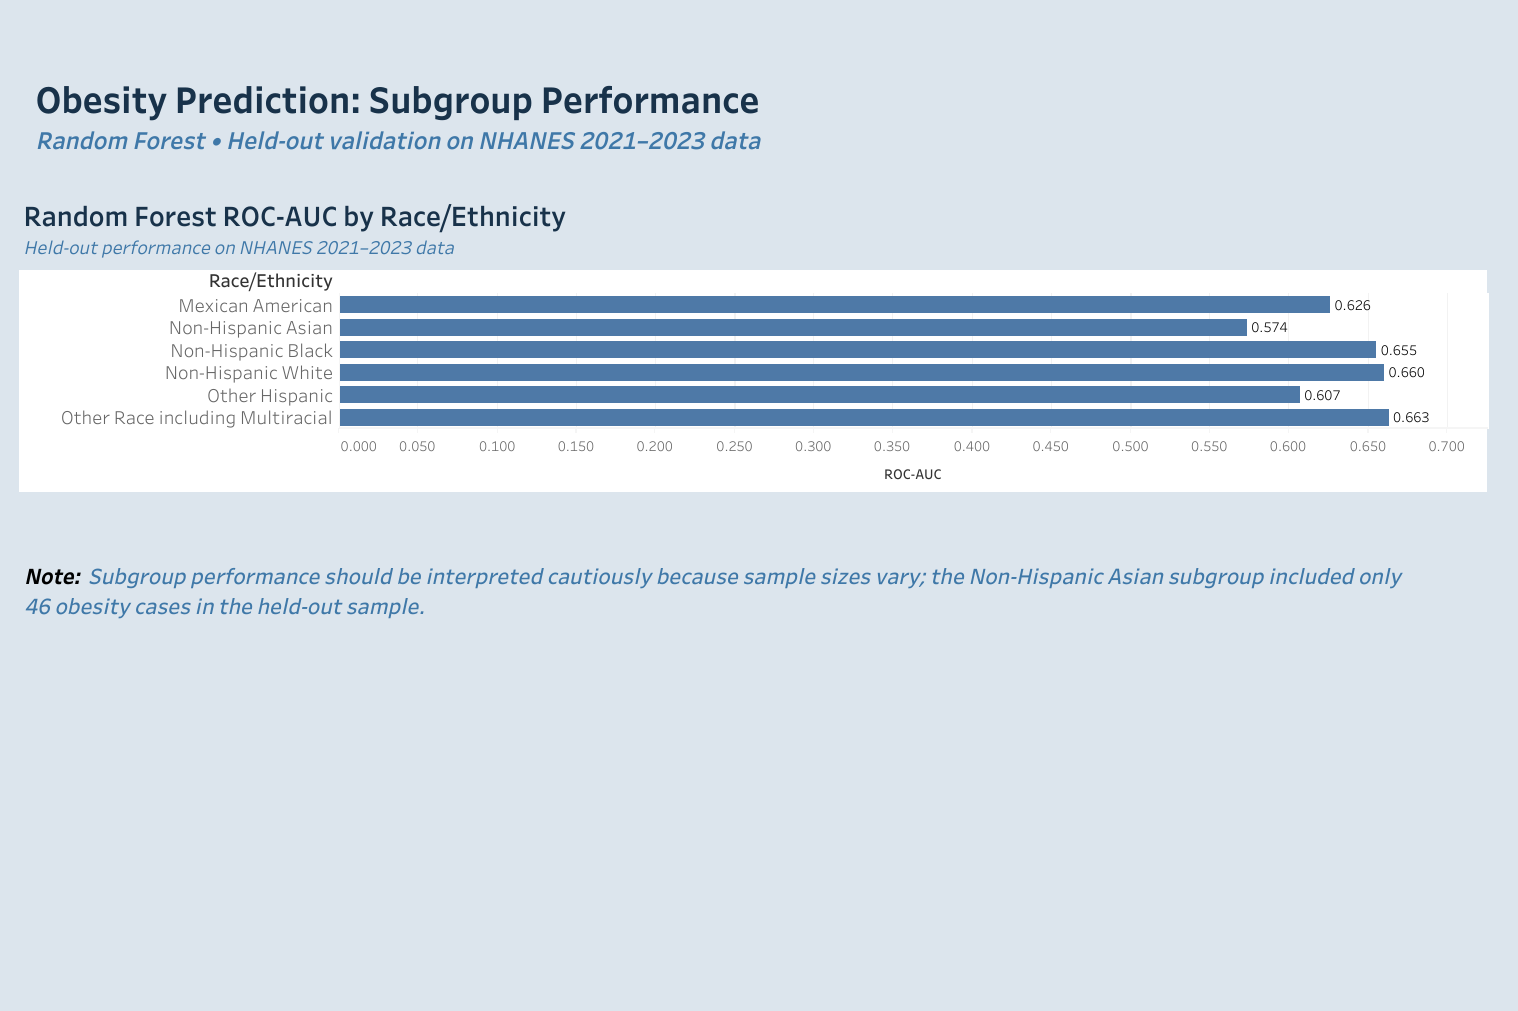

The dashboard page shown, as its layout file describes it:
{"tool":"tableau","page":{"name":"Obesity Prediction — Subgroup Performance","canvas":[1350,900],"ordinal":1},"visuals":[{"type":"text","box":[29,55,1127,93]},{"type":"worksheet","title":"RF Subgroup Performance","mark":"Bar","rows":["race_ethnicity"],"cols":["roc_auc"],"box":[17,196,1305,319]},{"type":"text","box":[17,494,1258,96]}]}

Visuals, with their boxes in screenshot pixels (x1, y1, x2, y2), scaled from the page's 1350x900 canvas onto the 1518x1011 screenshot:
text: x1=33, y1=62, x2=1300, y2=166
"RF Subgroup Performance" worksheet (Bar marks): x1=19, y1=220, x2=1487, y2=579
text: x1=19, y1=555, x2=1434, y2=663
